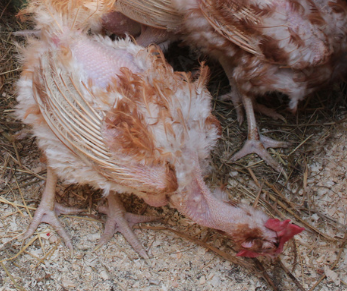Unhealthy: (12, 18, 296, 275)
